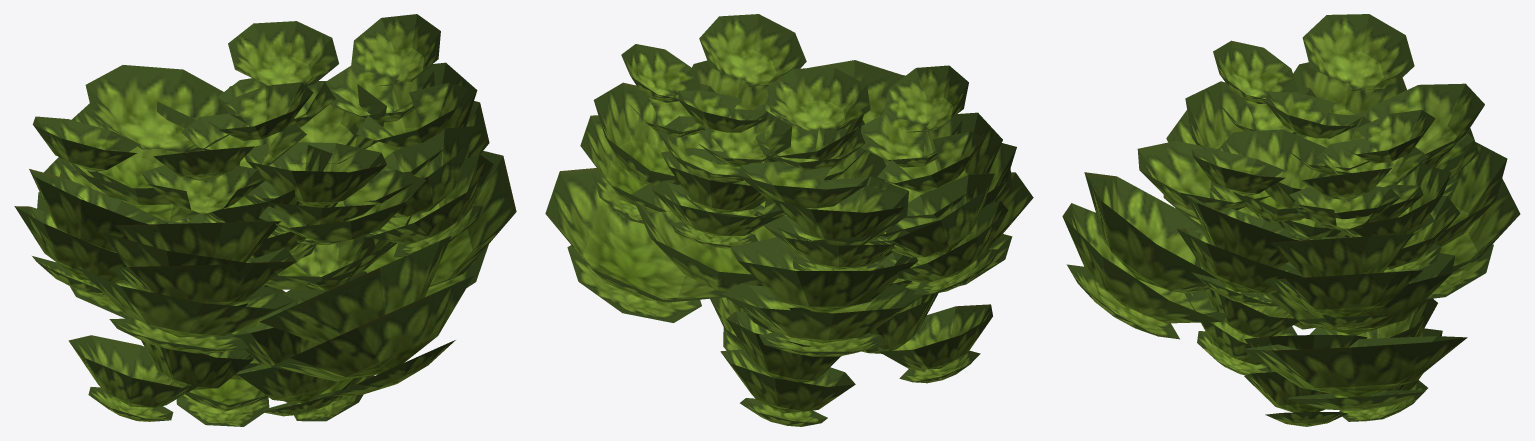
The model's file is swamp_tree.FBX.
The picture shows the model from 3 angles, left to right: view 1: azimuth 30°, elevation 25°; view 2: azimuth 150°, elevation 25°; view 3: azimuth 270°, elevation 25°; orthographic projection. The views are drawn at different scales.
Parts seen in each view (by area): view 1: new_tree_03_005; view 2: new_tree_03_005; view 3: new_tree_03_005.
Part boxes in pixels (left/top/right/bottom): new_tree_03_005: left=14, top=14, right=516, bottom=426; new_tree_03_005: left=545, top=14, right=1033, bottom=426; new_tree_03_005: left=1062, top=14, right=1520, bottom=426.
Size of the model in its own units: 272 by 245 by 195.
1 material, 1 textured.
